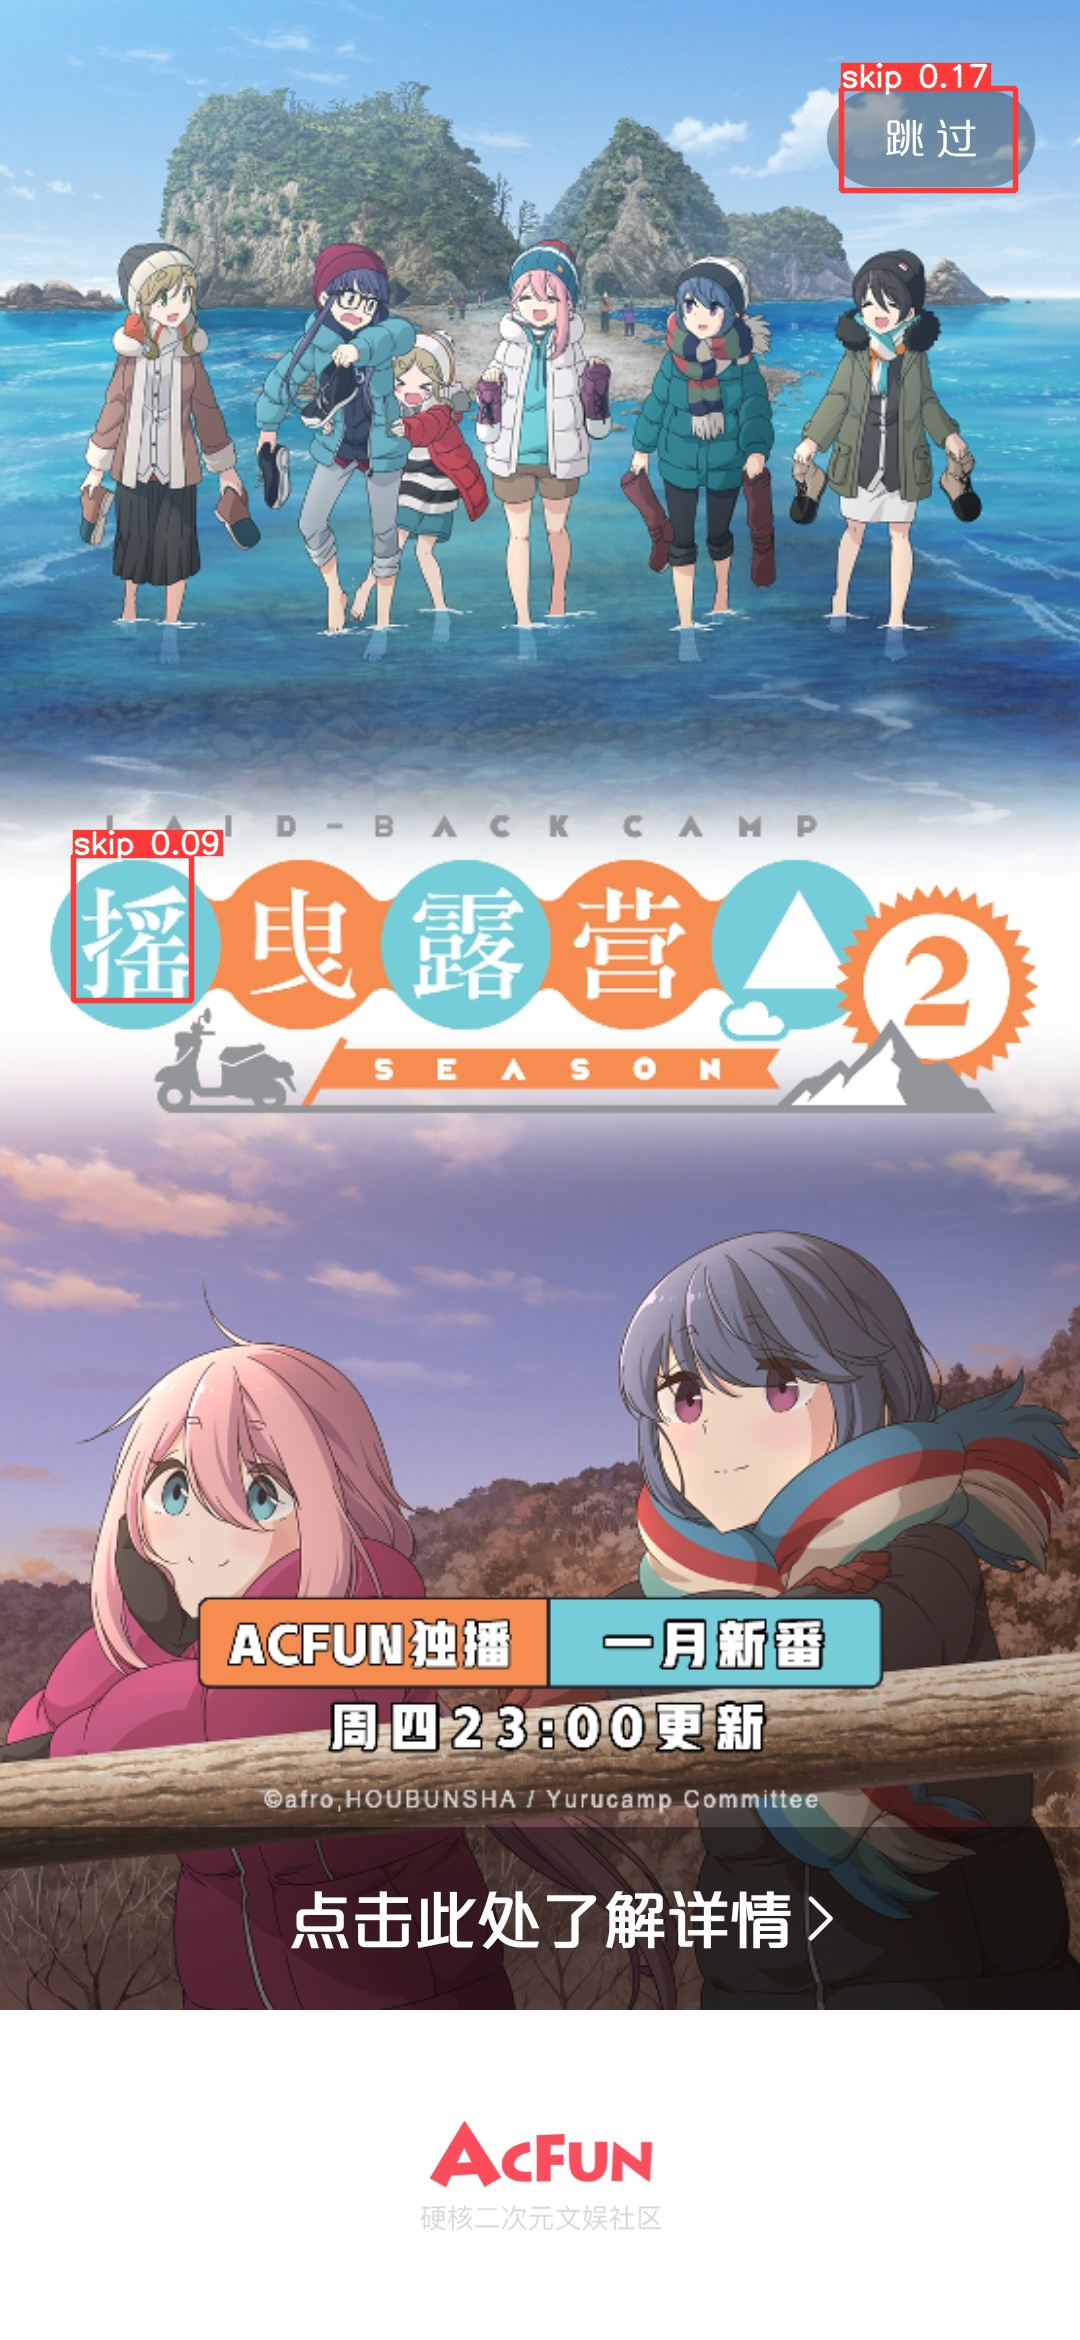skip: (834, 107, 1034, 172)
